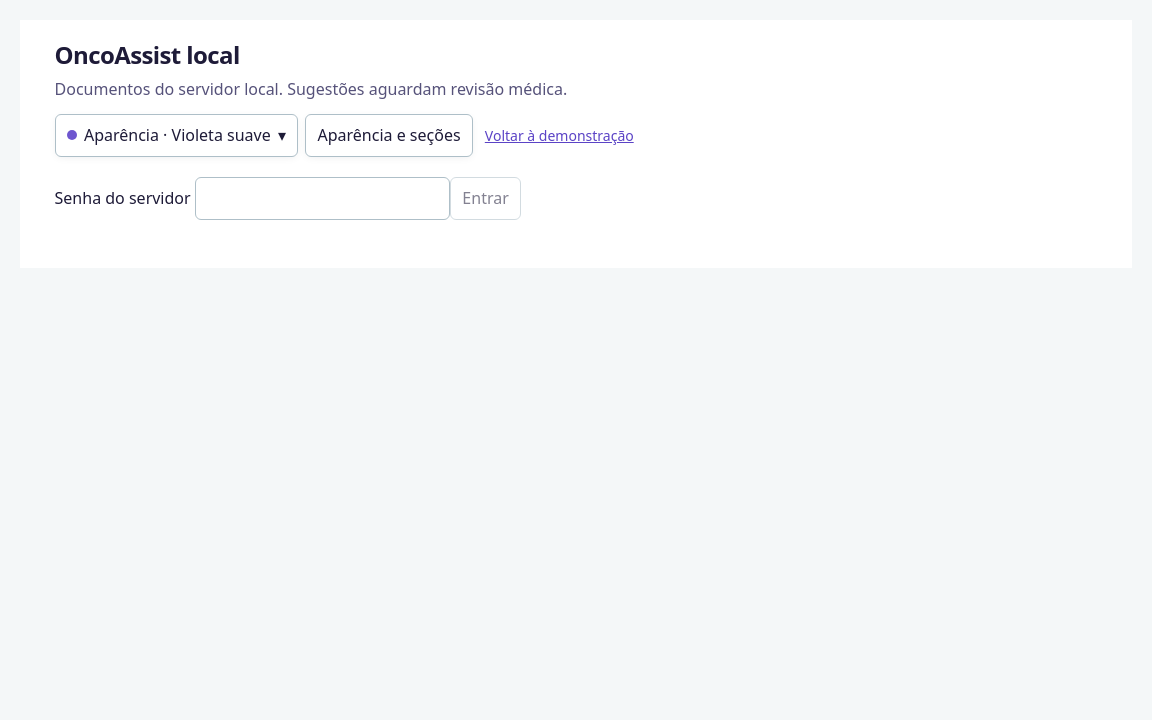
Test: navegação com transcrição não salva › captura retida continua protegendo a navegação mesmo após limpar a transcrição editada
Type "senha-sintetica-para-teste" into the password field labelled "Senha do servidor" at (322, 198), box [195, 177, 450, 220]
Click the button "Entrar" at (486, 198), box [450, 177, 521, 220]
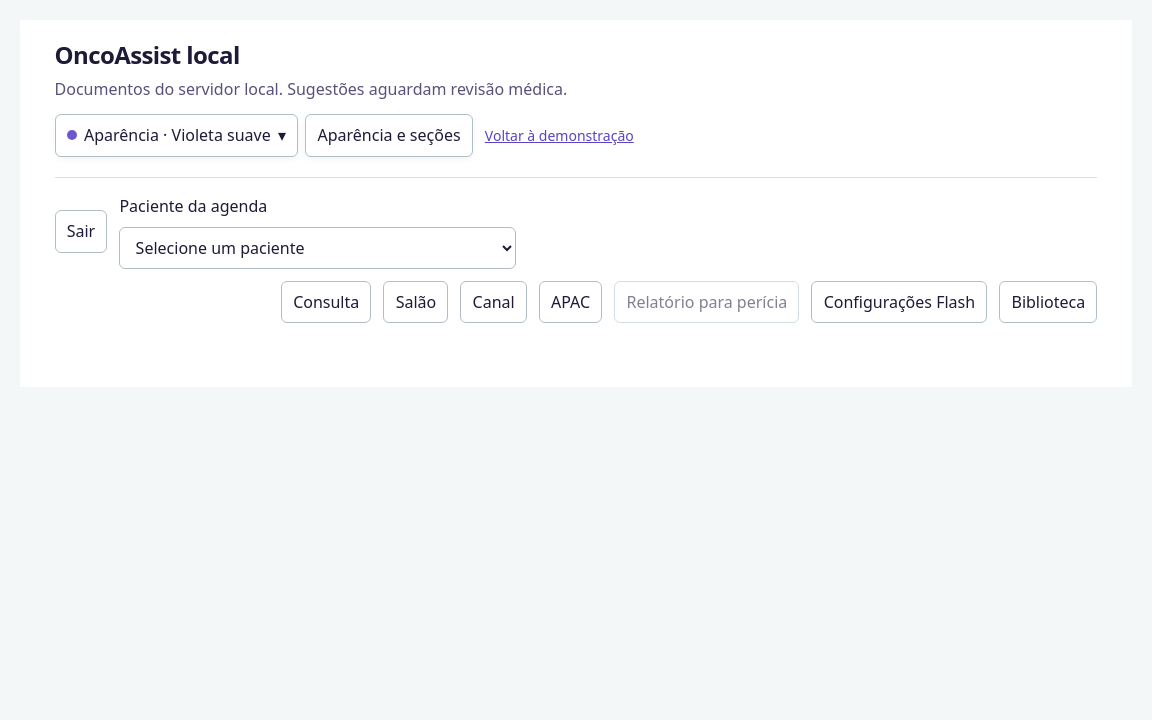
Select "11:00 — Paciente Teste 05" in the dropdown labelled "Paciente da agenda" at (318, 248), box [119, 227, 516, 269]
(page scrolled)
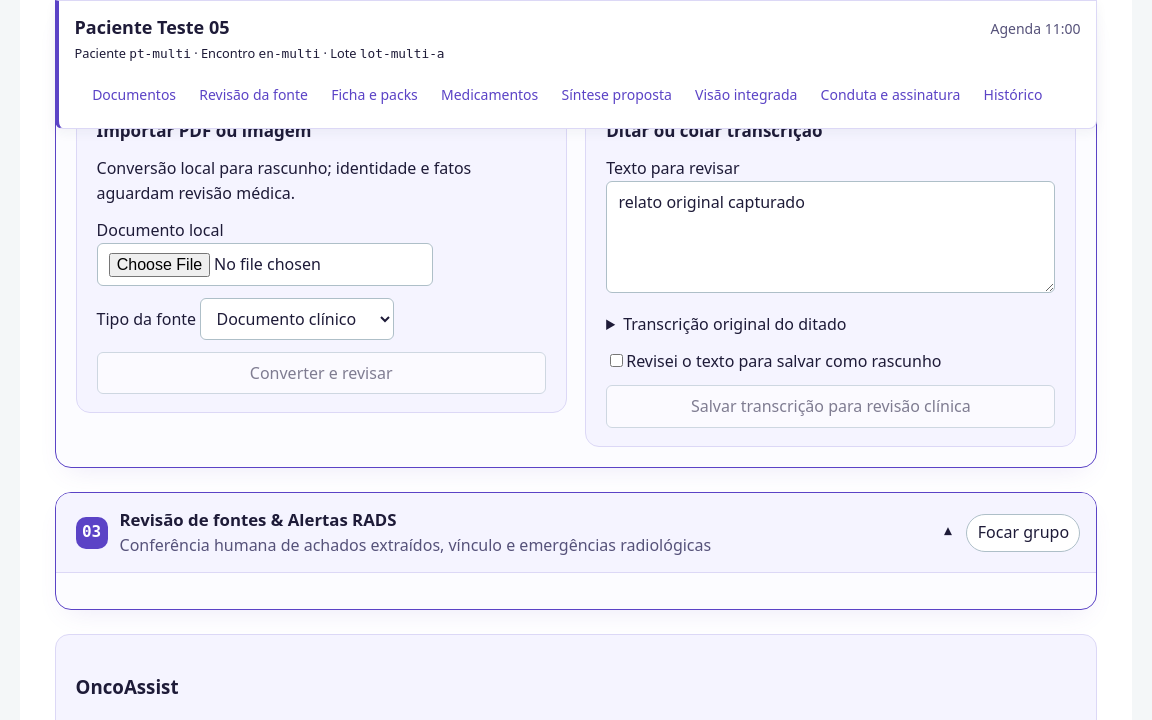
Expected: the text box named "Texto da transcrição" is shown, [606, 181, 1056, 293]
Click the checkbox labelled "Revisei o texto para salvar como rascunho" at (617, 360), box [610, 354, 623, 366]
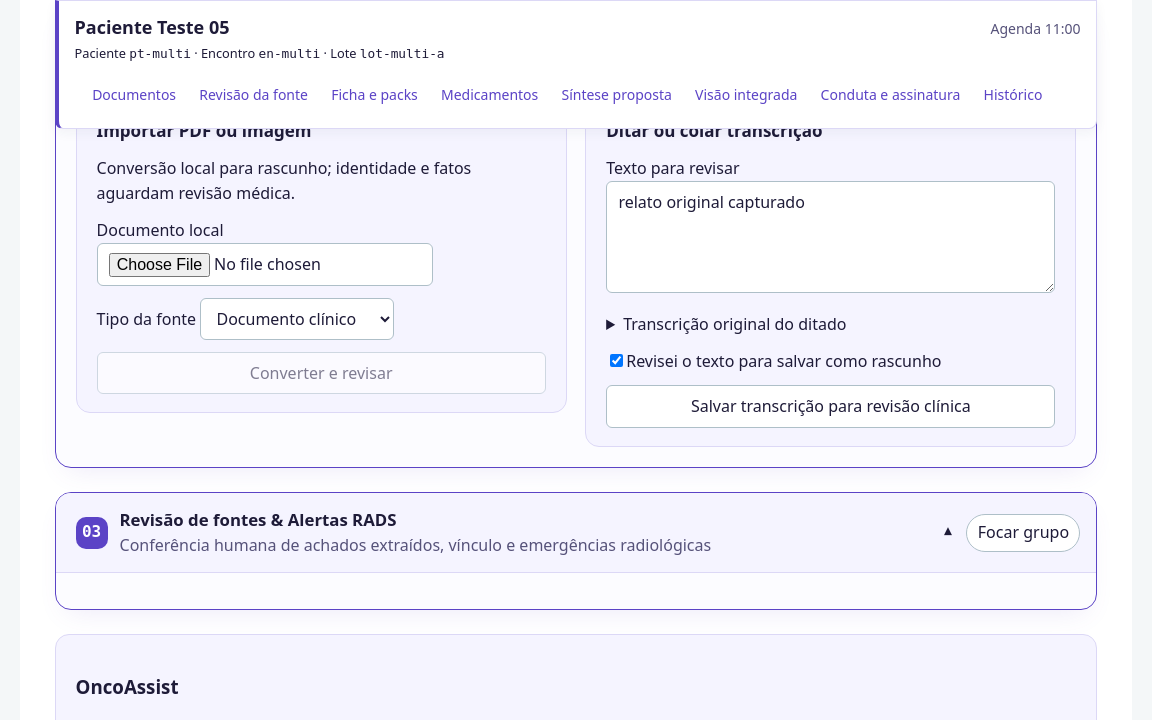
Clear the text box named "Texto da transcrição" at (831, 237), box [606, 181, 1056, 293]
(page scrolled)
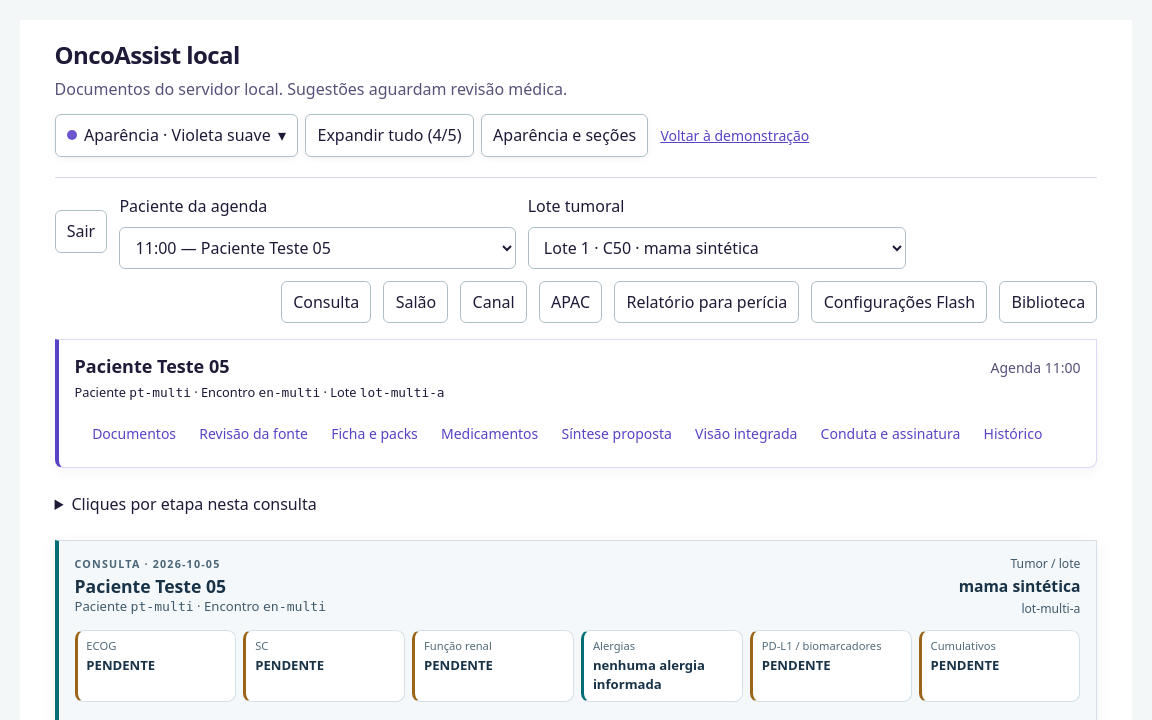
Click the button "APAC" at (571, 302), box [539, 281, 602, 323]
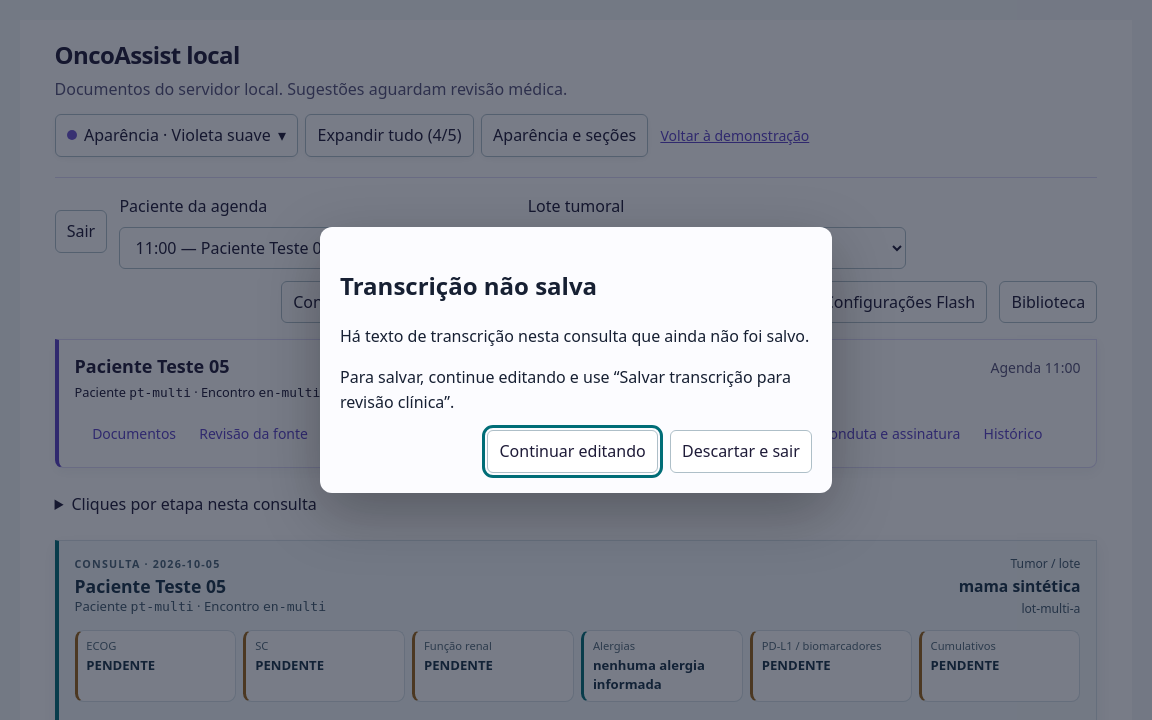
Expected: the dialog "Transcrição não salva" is shown, [320, 227, 832, 493]
Click the button "Continuar editando" at (573, 452), box [487, 430, 658, 473]
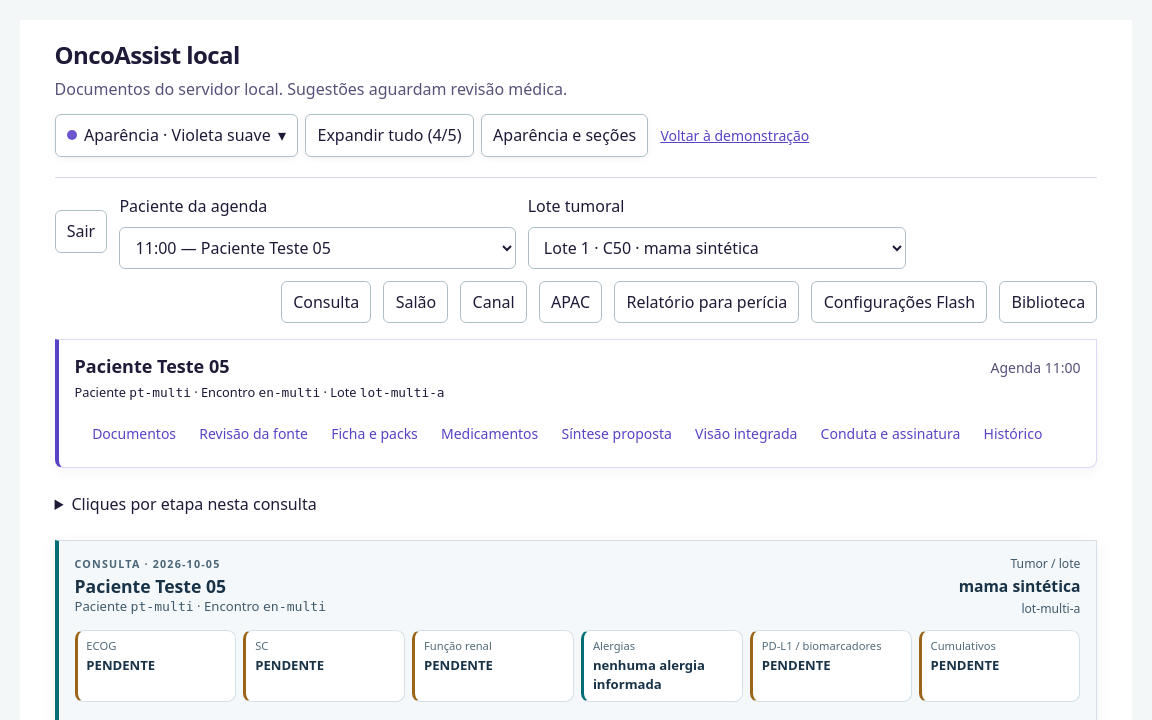
Expected: the dialog is gone
